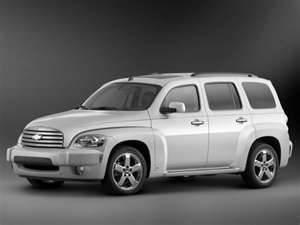car: (6, 73, 295, 197)
